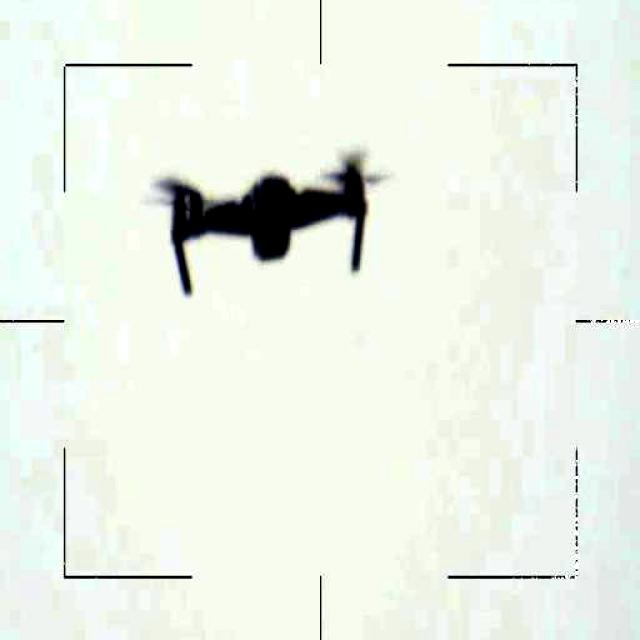bird: (144, 148, 394, 302)
